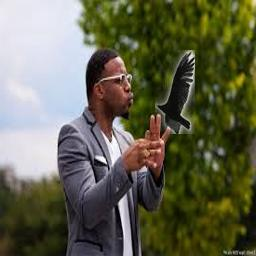Crow: (155, 50, 195, 134)
